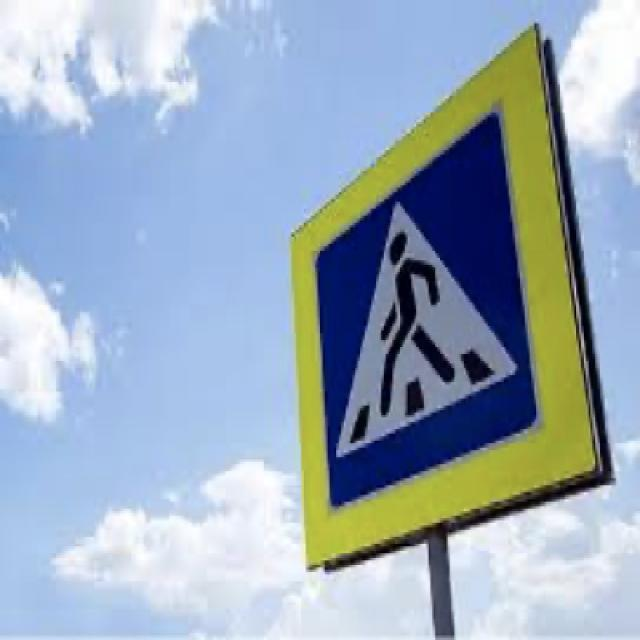crosswalk_sign: (312, 104, 544, 510)
